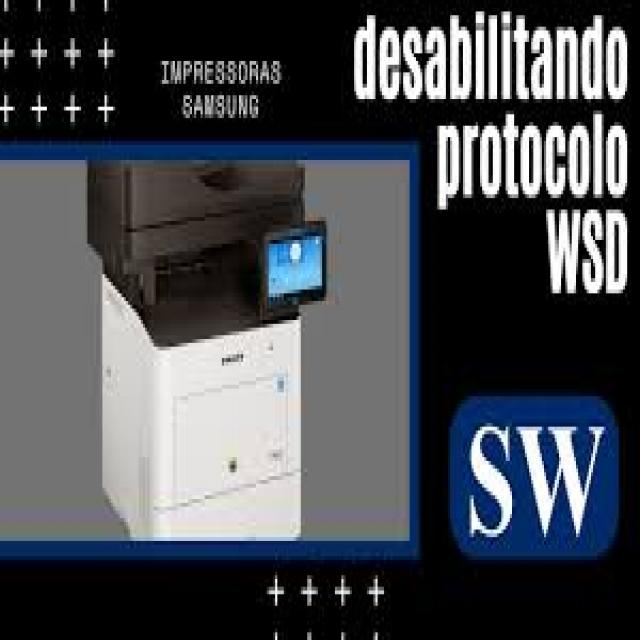printer: (85, 145, 332, 550)
